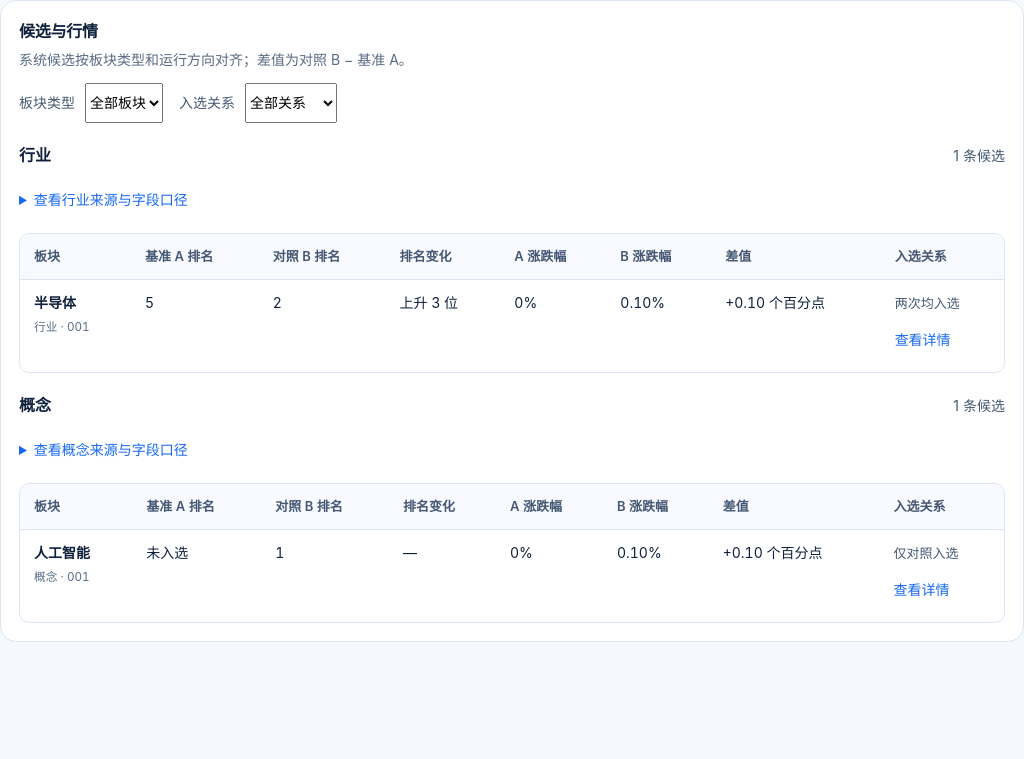
Test case: keeps kind identity, known zero and null distinct and explains aligned changes
Check: the text "半导体" is shown, box left=34, top=294, right=76, bottom=311
Check: the text "人工智能" is shown, box left=34, top=544, right=90, bottom=561
Click the button "查看详情" below "两次均入选": coordinates (923, 340) left=895, top=320, right=951, bottom=360
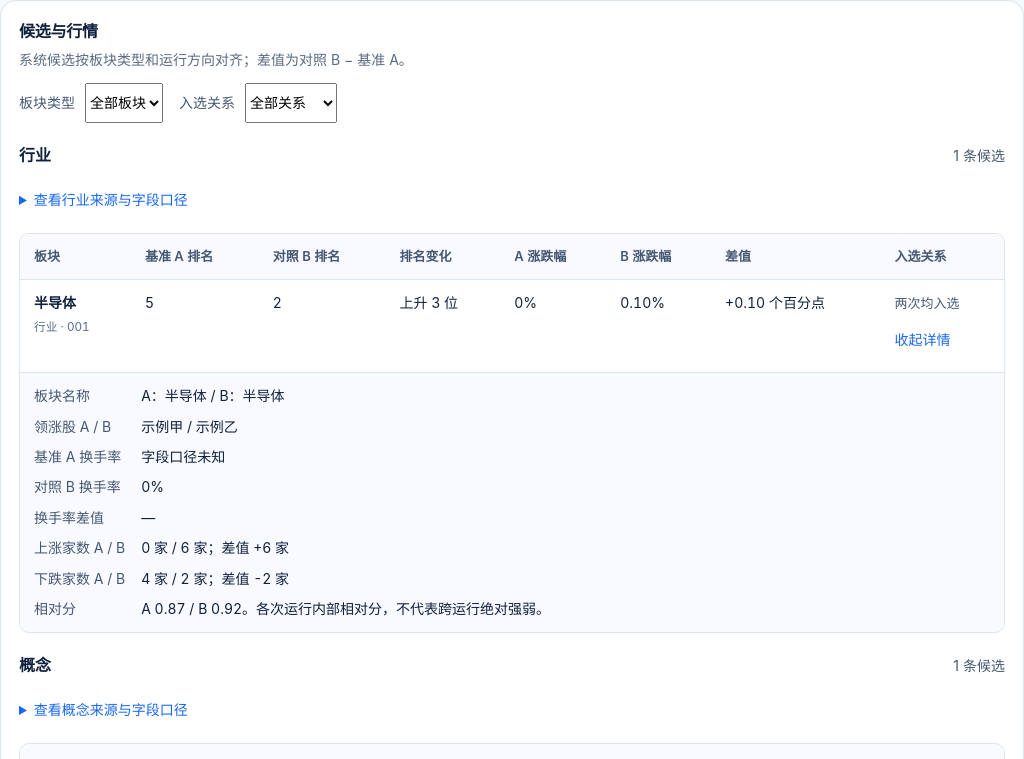
Check: the text "字段口径未知" is shown, box left=141, top=448, right=225, bottom=465
Check: the text "A 0.87 / B 0.92。各次运行内部相对分，不代表跨运行绝对强弱。" is shown, box left=141, top=600, right=550, bottom=617
Check: the text "0.87" is shown, box left=155, top=600, right=186, bottom=617
Select "概念" in the dropdown labelled "板块类型": coordinates (124, 103) left=85, top=83, right=163, bottom=123
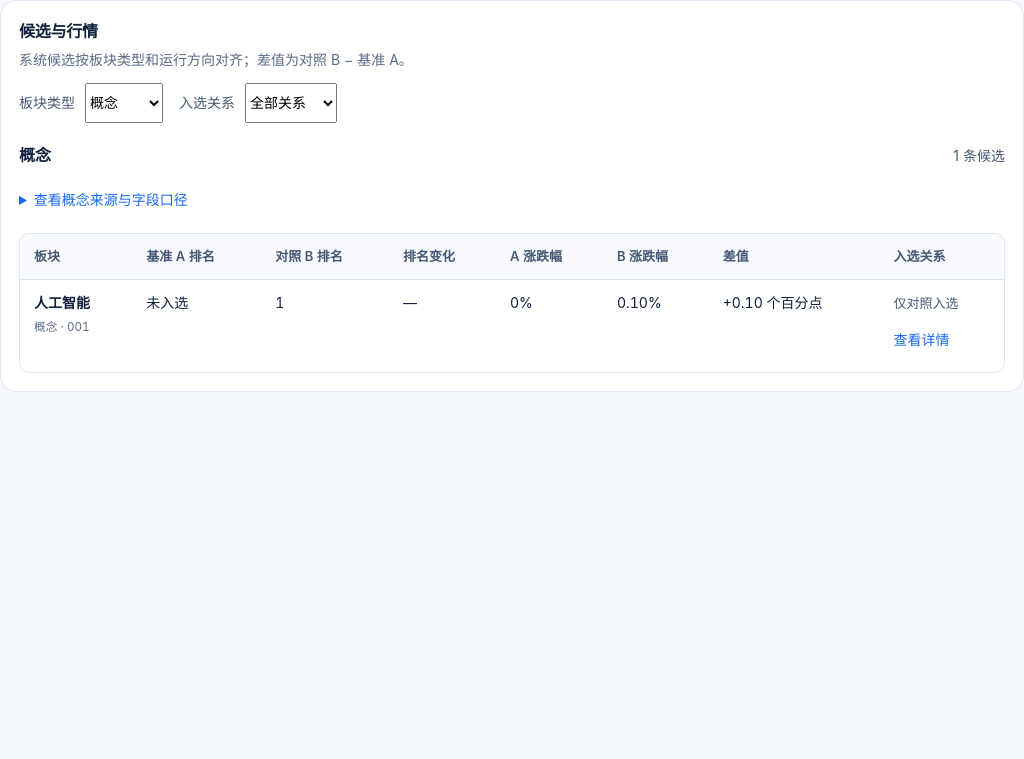
Check: the text "人工智能" is shown, box left=34, top=294, right=90, bottom=311
Check: the text "半导体" is gone
